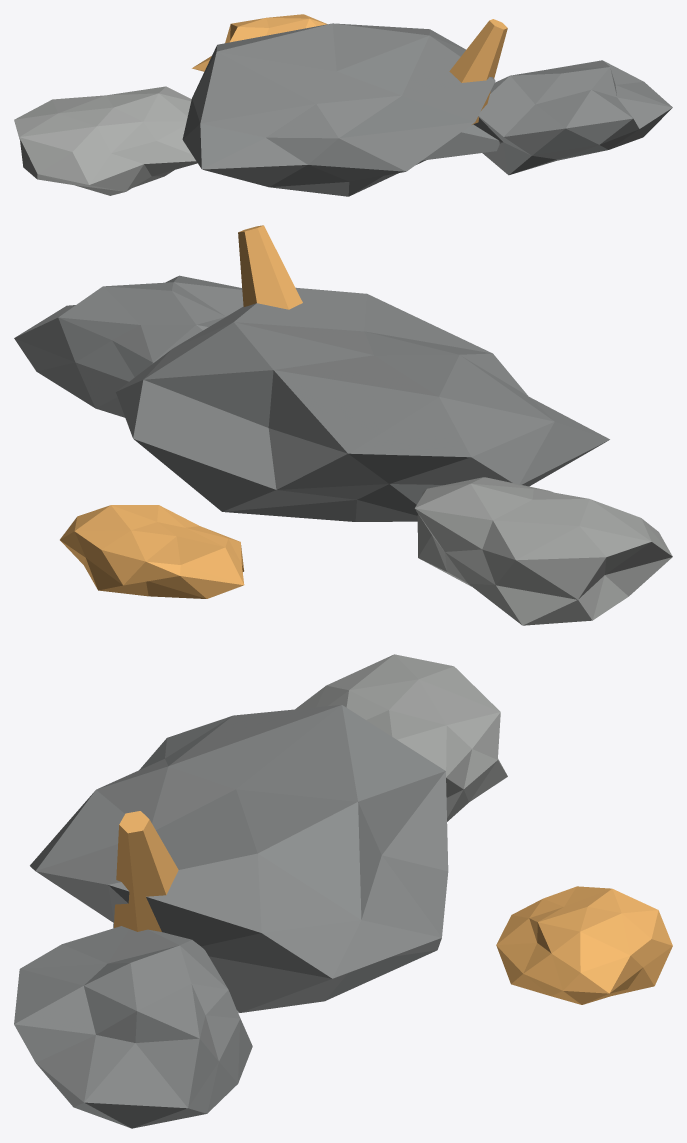
Rendered from t6_ore_depleted.glb.
3 views of the same model, one above another, from view 1: azimuth 30°, elevation 25°; view 2: azimuth 150°, elevation 25°; view 3: azimuth 270°, elevation 25° (orthographic). The views are drawn at different scales.
Parts seen in each view (by area): view 1: OreRubbleCenter, OreRubbleLeft, OreRubbleRight, SpentOreShard, OreChip; view 2: OreRubbleCenter, OreRubbleLeft, OreRubbleRight, OreChip, SpentOreShard; view 3: OreRubbleCenter, OreRubbleRight, OreChip, OreRubbleLeft, SpentOreShard.
Part boxes in pixels (x1,y1,x2,y2): OreRubbleCenter: (182, 23, 499, 196); OreRubbleLeft: (14, 86, 197, 195); OreRubbleRight: (473, 60, 672, 175); SpentOreShard: (449, 19, 507, 124); OreChip: (192, 14, 327, 71); OreRubbleCenter: (116, 287, 609, 521); OreRubbleLeft: (414, 477, 672, 625); OreRubbleRight: (14, 275, 243, 417); OreChip: (60, 505, 244, 598); SpentOreShard: (238, 225, 302, 309); OreRubbleCenter: (30, 705, 448, 1013); OreRubbleRight: (14, 926, 252, 1128); OreChip: (496, 886, 672, 1004); OreRubbleLeft: (295, 654, 507, 821); SpentOreShard: (114, 811, 178, 931).
Bounding box in the file's own units: 0.9552 × 0.2367 × 0.6512.
